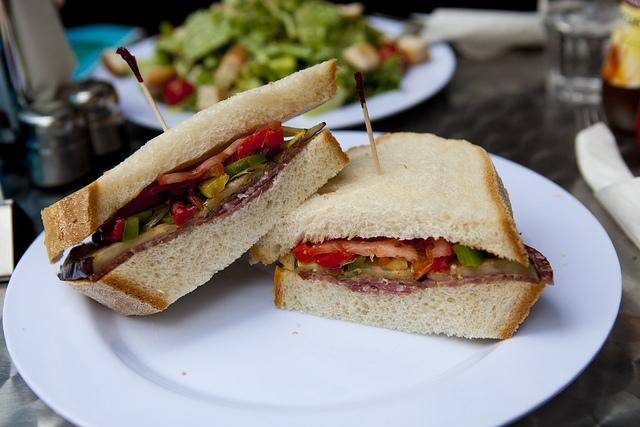lettuce: (235, 23, 318, 80), (180, 10, 242, 62), (293, 1, 345, 42), (270, 6, 298, 41), (222, 0, 260, 22), (378, 57, 402, 84), (186, 64, 203, 84)
tomato: (111, 163, 224, 220), (156, 132, 256, 186), (310, 237, 435, 280), (162, 78, 193, 105), (378, 44, 409, 70), (314, 252, 358, 270), (432, 236, 456, 258), (433, 254, 454, 273), (265, 128, 285, 147)
